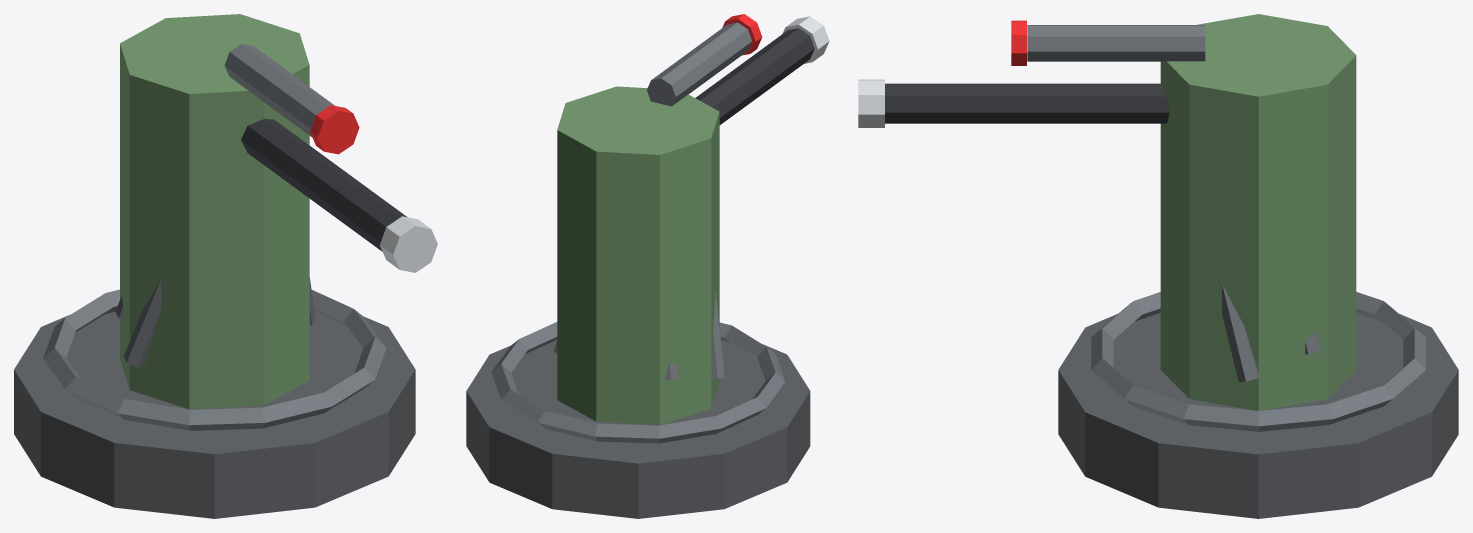
Rendered from TD_SniperTower_T1.fbx.
The picture shows the model from 3 angles, left to right: view 1: azimuth 30°, elevation 25°; view 2: azimuth 150°, elevation 25°; view 3: azimuth 270°, elevation 25°; orthographic projection. The views are drawn at different scales.
Visible parts, largest first — view 1: TD_SniperTower_T1_Body, TD_SniperTower_T1_Base, TD_SniperTower_T1_BaseSupportRing, TD_SniperTower_T1_LongBarrel, TD_SniperTower_T1_Scope, TD_SniperTower_T1_MuzzleTip, TD_SniperTower_T1_RedLens, TD_SniperTower_T1_Support_01; view 2: TD_SniperTower_T1_Body, TD_SniperTower_T1_Base, TD_SniperTower_T1_BaseSupportRing, TD_SniperTower_T1_LongBarrel, TD_SniperTower_T1_Scope, TD_SniperTower_T1_MuzzleTip, TD_SniperTower_T1_Support_01, TD_SniperTower_T1_RedLens; view 3: TD_SniperTower_T1_Body, TD_SniperTower_T1_Base, TD_SniperTower_T1_LongBarrel, TD_SniperTower_T1_BaseSupportRing, TD_SniperTower_T1_Scope, TD_SniperTower_T1_Support_02, TD_SniperTower_T1_MuzzleTip, TD_SniperTower_T1_RedLens.
Part boxes in pixels (x1=…): TD_SniperTower_T1_Body: x1=120, y1=14, x2=309, y2=409; TD_SniperTower_T1_Base: x1=14, y1=311, x2=415, y2=518; TD_SniperTower_T1_BaseSupportRing: x1=43, y1=289, x2=386, y2=430; TD_SniperTower_T1_LongBarrel: x1=241, y1=119, x2=407, y2=251; TD_SniperTower_T1_Scope: x1=224, y1=43, x2=334, y2=137; TD_SniperTower_T1_MuzzleTip: x1=380, y1=216, x2=437, y2=272; TD_SniperTower_T1_RedLens: x1=310, y1=105, x2=359, y2=154; TD_SniperTower_T1_Support_01: x1=123, y1=279, x2=161, y2=367; TD_SniperTower_T1_Body: x1=557, y1=86, x2=719, y2=425; TD_SniperTower_T1_Base: x1=466, y1=340, x2=810, y2=518; TD_SniperTower_T1_BaseSupportRing: x1=491, y1=322, x2=785, y2=443; TD_SniperTower_T1_LongBarrel: x1=695, y1=28, x2=814, y2=124; TD_SniperTower_T1_Scope: x1=647, y1=22, x2=752, y2=106; TD_SniperTower_T1_MuzzleTip: x1=782, y1=16, x2=829, y2=63; TD_SniperTower_T1_Support_01: x1=710, y1=292, x2=724, y2=379; TD_SniperTower_T1_RedLens: x1=722, y1=14, x2=762, y2=55; TD_SniperTower_T1_Body: x1=1160, y1=14, x2=1356, y2=410; TD_SniperTower_T1_Base: x1=1058, y1=313, x2=1458, y2=518; TD_SniperTower_T1_LongBarrel: x1=885, y1=83, x2=1169, y2=123; TD_SniperTower_T1_BaseSupportRing: x1=1091, y1=292, x2=1425, y2=431; TD_SniperTower_T1_Scope: x1=1027, y1=25, x2=1205, y2=61; TD_SniperTower_T1_Support_02: x1=1222, y1=284, x2=1259, y2=381; TD_SniperTower_T1_MuzzleTip: x1=858, y1=79, x2=884, y2=127; TD_SniperTower_T1_RedLens: x1=1011, y1=20, x2=1026, y2=65.
Size of the model in its own units: 0.9 by 1.02 by 1.35.
